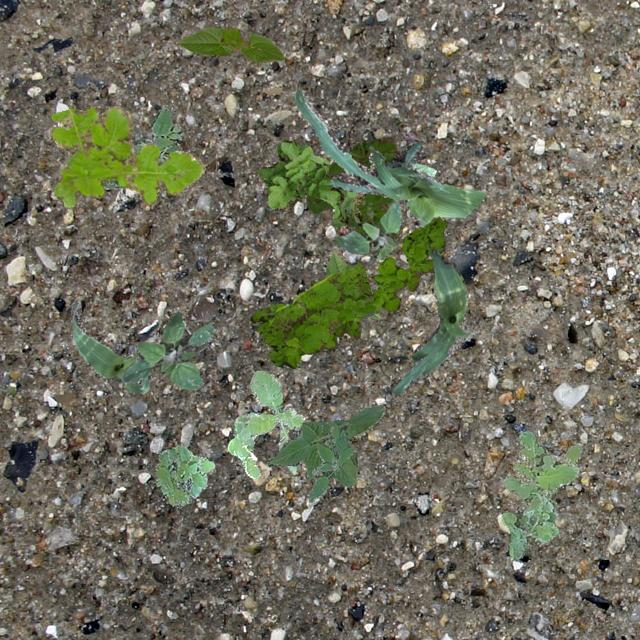crop: (294, 89, 486, 228), (392, 247, 472, 393), (264, 404, 384, 486), (70, 298, 150, 394), (324, 250, 380, 320), (178, 26, 284, 60), (412, 162, 436, 176)
weed: (250, 216, 446, 368), (48, 104, 204, 208), (501, 430, 582, 558), (306, 136, 402, 240), (268, 262, 374, 354), (255, 140, 366, 226), (226, 370, 304, 478), (120, 310, 216, 390), (101, 105, 182, 188), (334, 200, 401, 260), (154, 444, 213, 508), (308, 424, 352, 502)
